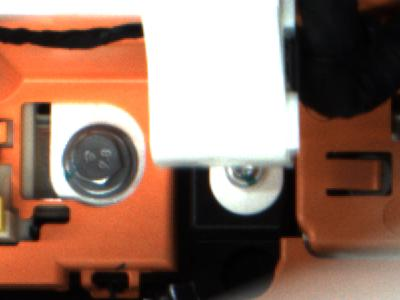nut_b: (56, 125, 140, 200)
